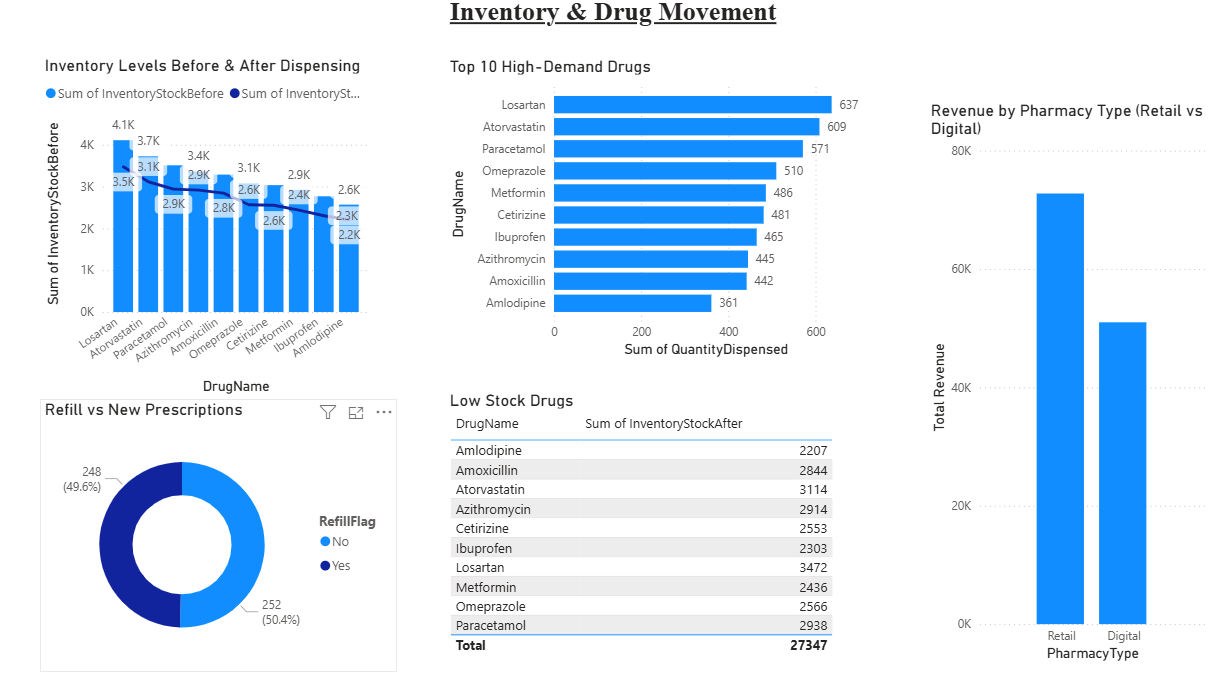

What the dashboard file says about the page in this screenshot:
{"tool":"powerbi","page":{"name":"Inventory & Drug Movement","canvas":[1280,720],"ordinal":1},"visuals":[{"type":"textbox","box":[343.2,0,664.9,65.3],"z":0},{"type":"lineClusteredColumnComboChart","title":"Inventory Levels Before & After Dispensing","fields":{"Category":["pharmacy_operations_dataset.DrugName"],"Y":["Sum(pharmacy_operations_dataset.InventoryStockBefore)"],"Y2":["Sum(pharmacy_operations_dataset.InventoryStockAfter)"]},"box":[54.4,64.7,343.1,353.4],"z":1},{"type":"barChart","title":"Top 10 High-Demand Drugs","fields":{"Category":["pharmacy_operations_dataset.DrugName"],"Y":["Sum(pharmacy_operations_dataset.QuantityDispensed)"]},"box":[470.5,65.7,439.7,314.3],"z":2},{"type":"tableEx","title":"Low Stock Drugs","fields":{"Values":["pharmacy_operations_dataset.DrugName","Sum(pharmacy_operations_dataset.InventoryStockAfter)"]},"box":[470.5,408.9,413,300],"z":3},{"type":"donutChart","title":"Refill vs New Prescriptions","fields":{"Category":["pharmacy_operations_dataset.RefillFlag"],"Y":["CountNonNull(pharmacy_operations_dataset.RxID)"]},"box":[54.4,418.1,366.7,280.4],"z":4},{"type":"columnChart","title":"Revenue by Pharmacy Type (Retail vs Digital)","fields":{"Category":["pharmacy_operations_dataset.PharmacyType"],"Y":["pharmacy_operations_dataset.Total Revenue"]},"box":[964.6,110.9,291.7,581.4],"z":5}]}

Visuals, with their boxes in screenshot pixels (x1, y1, x2, y2), scaled from the page's 1280x720 canvas onto the 1223x685 screenshot:
textbox: 328:0:963:62
"Inventory Levels Before & After Dispensing" lineClusteredColumnComboChart: 52:62:380:398
"Top 10 High-Demand Drugs" barChart: 450:63:870:362
"Low Stock Drugs" tableEx: 450:389:844:674
"Refill vs New Prescriptions" donutChart: 52:398:402:665
"Revenue by Pharmacy Type (Retail vs Digital)" columnChart: 922:106:1200:659
